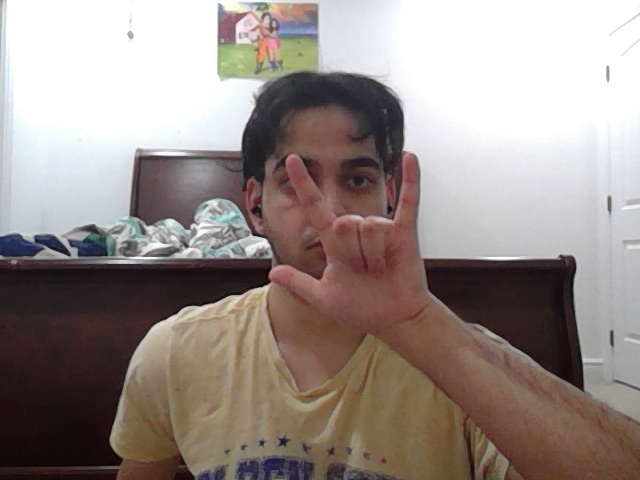iLoveYou: (268, 153, 442, 332)
